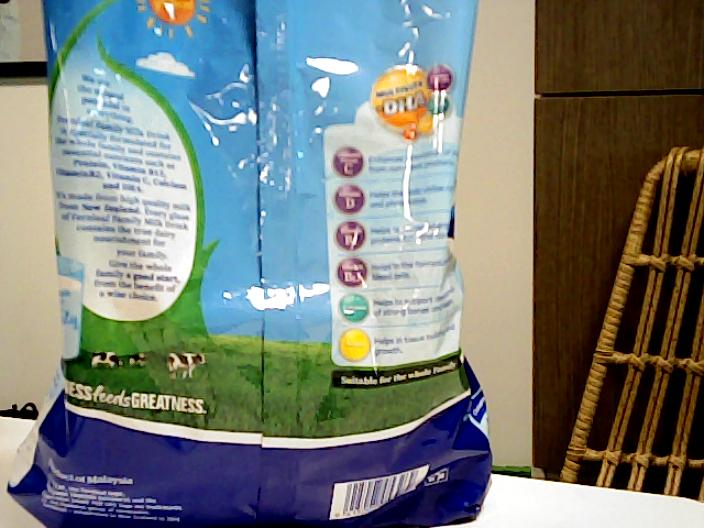Adult_Milk_1000-1999g_Halal_NonHealthy: (25, 1, 491, 528)
